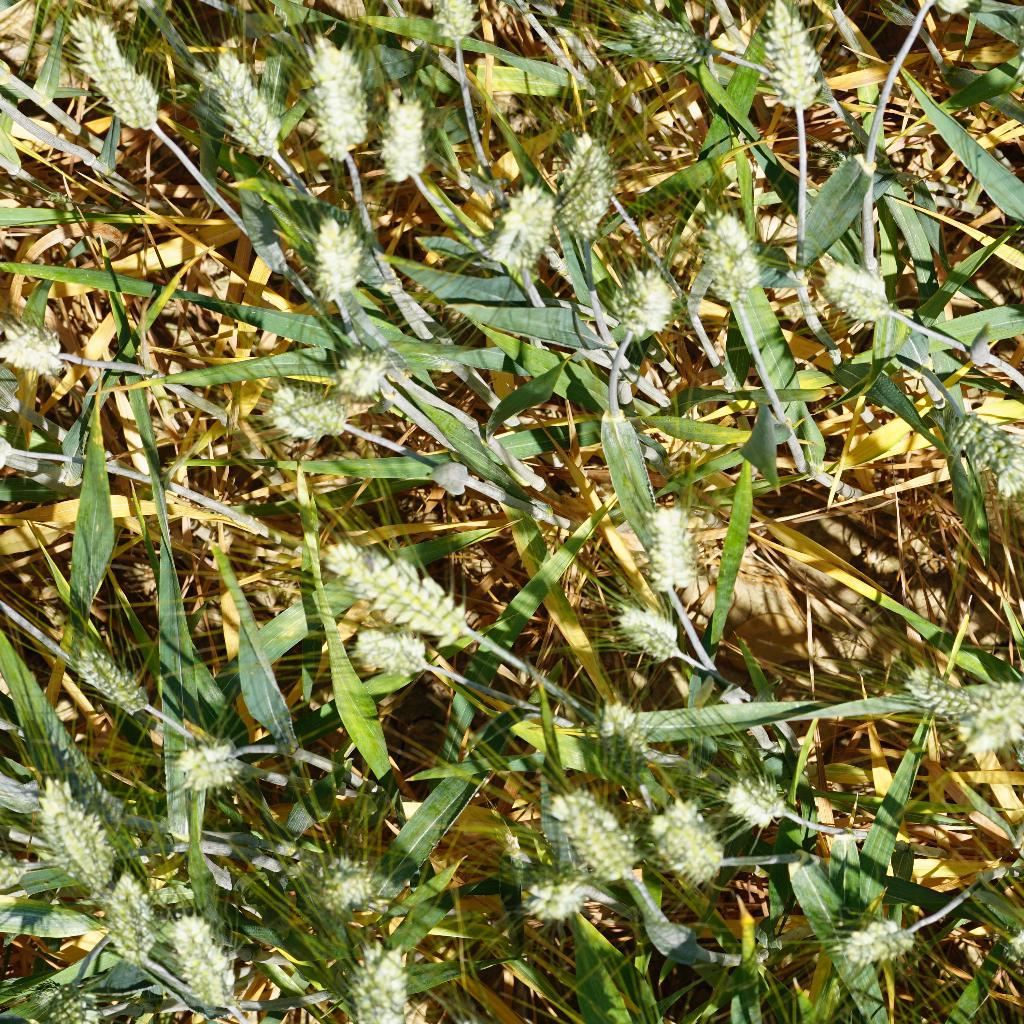0-0: (310, 539, 479, 646), (60, 2, 163, 141), (290, 21, 384, 168), (194, 38, 291, 168), (542, 781, 647, 886), (907, 662, 1024, 752), (164, 912, 256, 1024), (645, 793, 743, 892), (553, 122, 636, 238), (475, 180, 553, 302), (606, 6, 716, 81), (755, 0, 826, 114), (944, 667, 1024, 768), (944, 400, 1024, 500), (701, 204, 772, 313), (810, 250, 899, 335), (86, 881, 169, 971), (604, 260, 687, 347), (333, 615, 438, 683), (377, 83, 441, 194), (635, 494, 703, 598), (70, 638, 156, 716), (339, 940, 418, 1024), (310, 217, 377, 314), (265, 372, 355, 444), (503, 864, 606, 925), (830, 915, 935, 970), (163, 732, 243, 800), (717, 769, 806, 830), (318, 849, 385, 926), (49, 810, 112, 889), (322, 346, 392, 414), (23, 780, 79, 860), (0, 328, 82, 381), (585, 699, 657, 759), (613, 608, 686, 662), (34, 978, 117, 1024), (422, 0, 484, 53)
